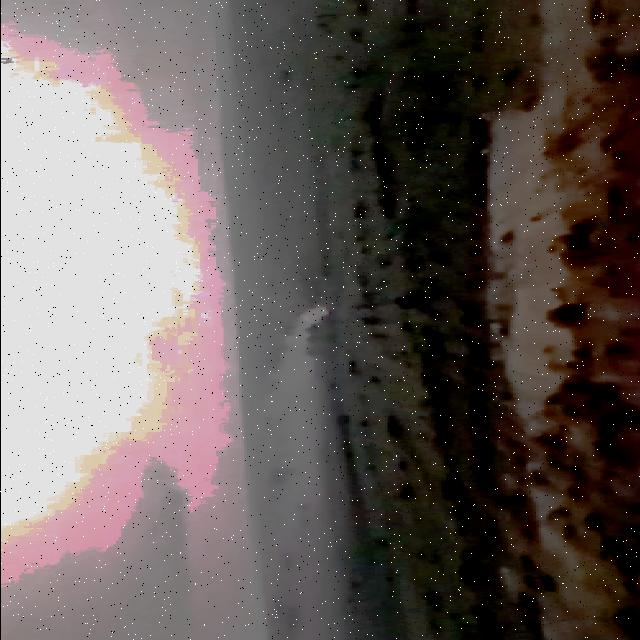asap: (250, 302, 344, 422)
